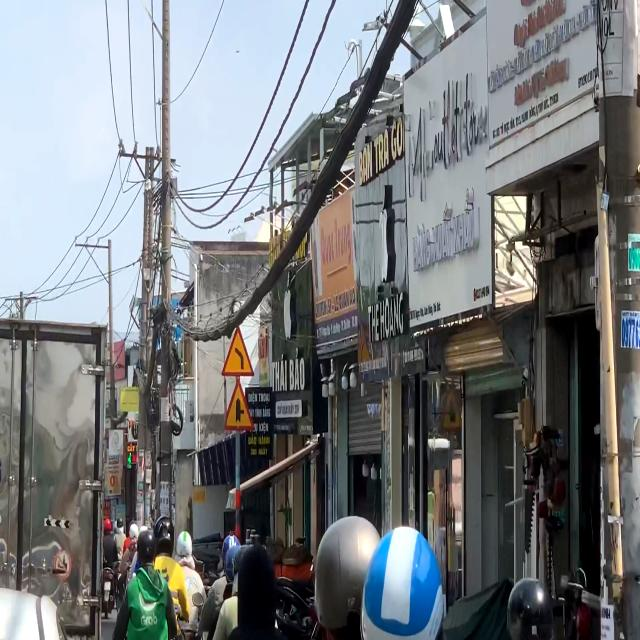W.201a: (221, 321, 255, 379)
W.207b: (221, 378, 257, 434)
